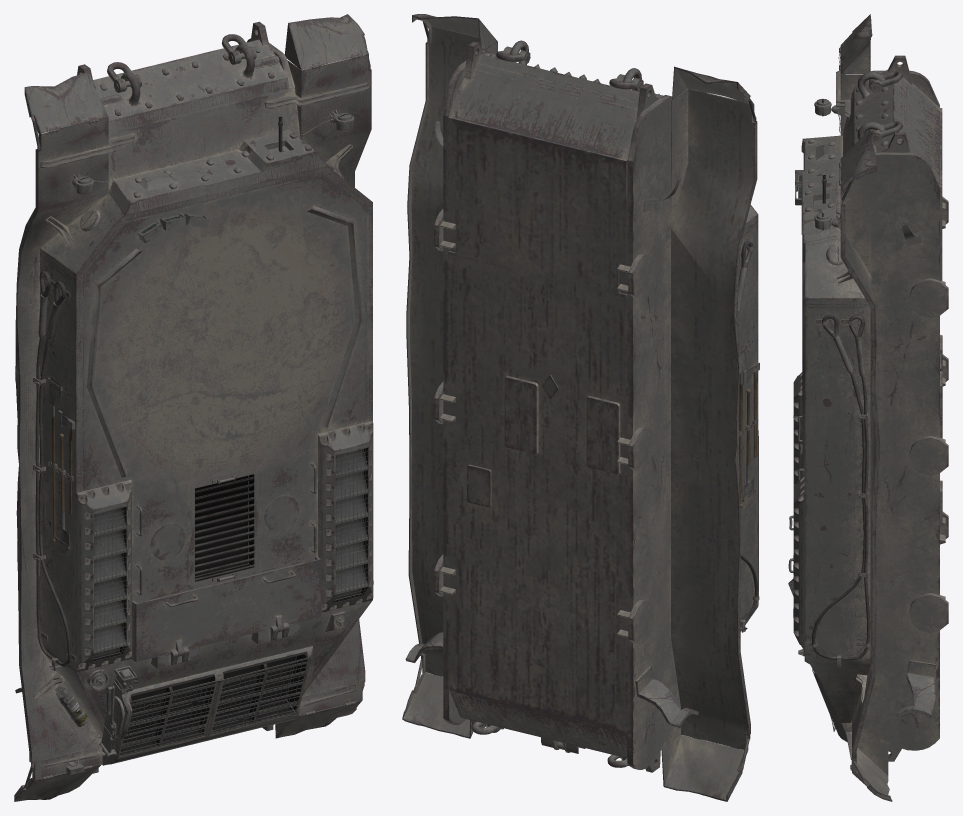
The model's file is Hull.glb.
3 renders of one model, left to right at view 1: azimuth 30°, elevation 25°; view 2: azimuth 150°, elevation 25°; view 3: azimuth 270°, elevation 25°, orthographic. The views are drawn at different scales.
Visible parts, largest first — view 1: set_0_group_0; view 2: set_0_group_0; view 3: set_0_group_0.
Boxes of the visible parts, <box> form: set_0_group_0: <box>14,14,373,801</box>; set_0_group_0: <box>402,14,759,801</box>; set_0_group_0: <box>788,14,948,801</box>.
Size of the model in its own units: 3.44 by 7.07 by 1.57.
1 material, 1 textured.
